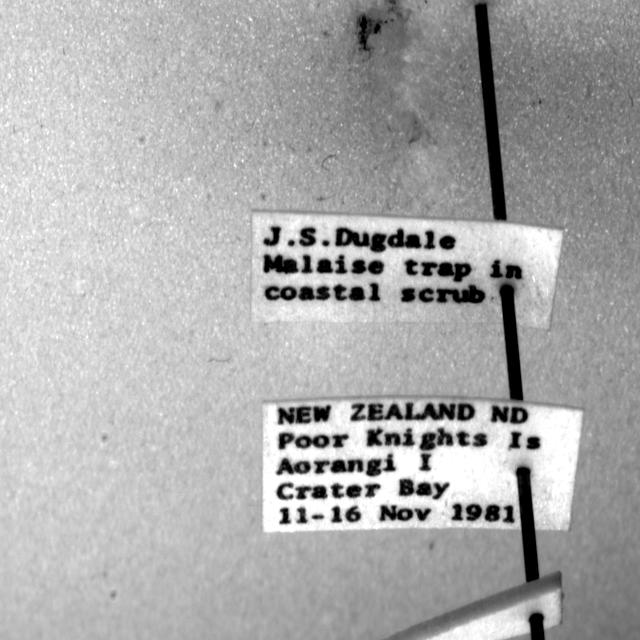typed_label: (262, 398, 582, 532), (251, 210, 562, 328)
